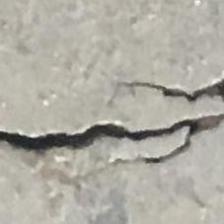Crack: (0, 73, 224, 191)
